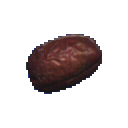ng: (21, 30, 111, 101)
